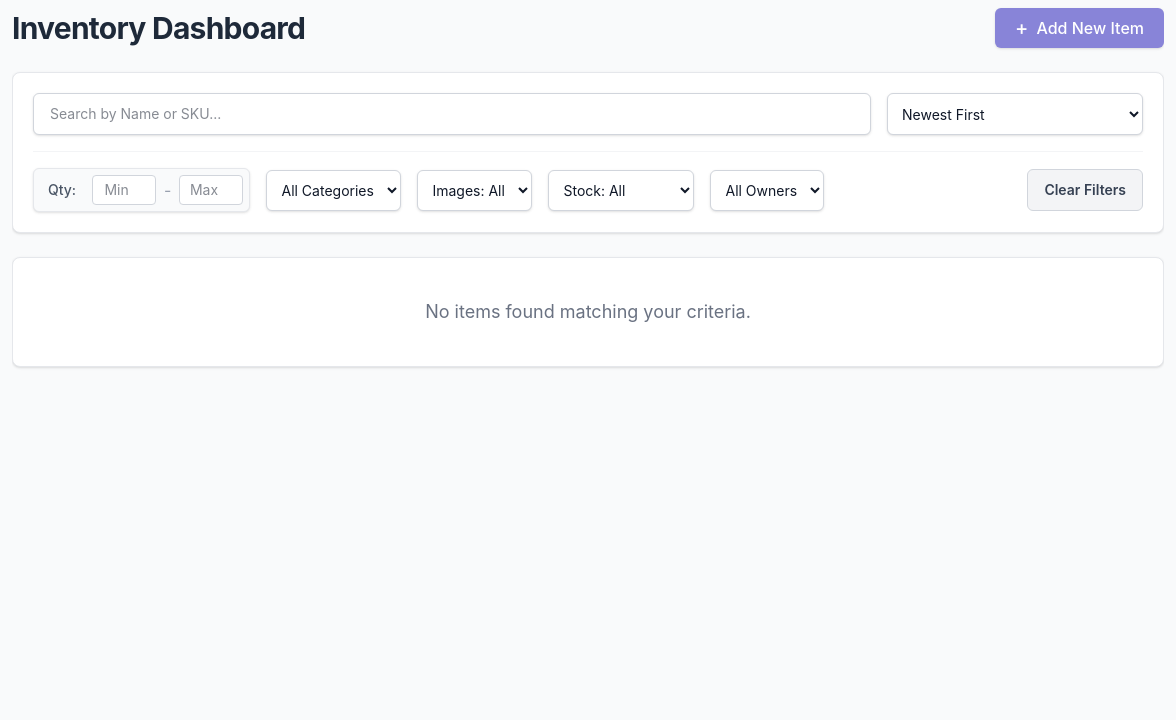
Inventory System Integration › Filtering and Searching › filters the list based on search term (Name or SKU)
The image size is (1176, 720).
Type "HND-020" into the field with placeholder "Search by Name or SKU..." at (452, 114), box [33,93,871,135]
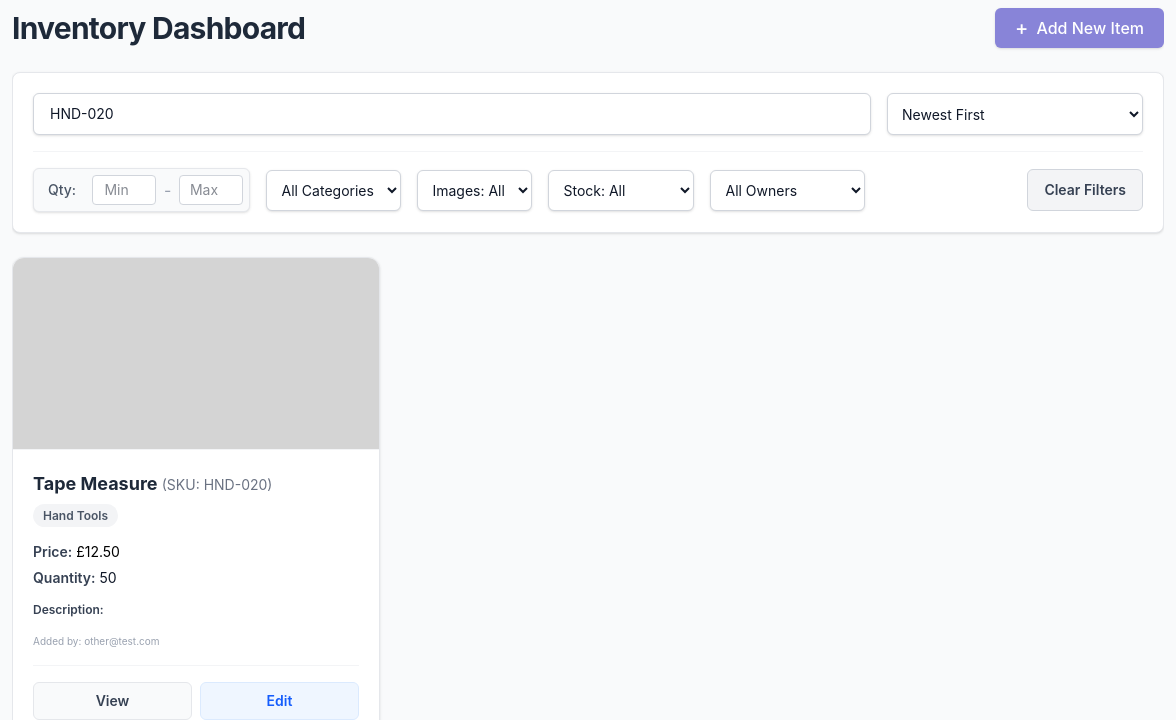
Check: the heading "Tape Measure (SKU: HND-020)" is shown, box [33,470,272,498]
